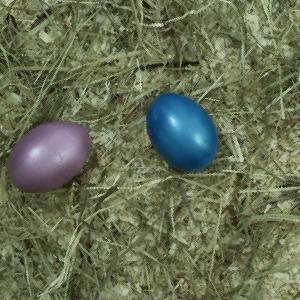egg: (8, 122, 94, 193), (148, 91, 219, 170)
